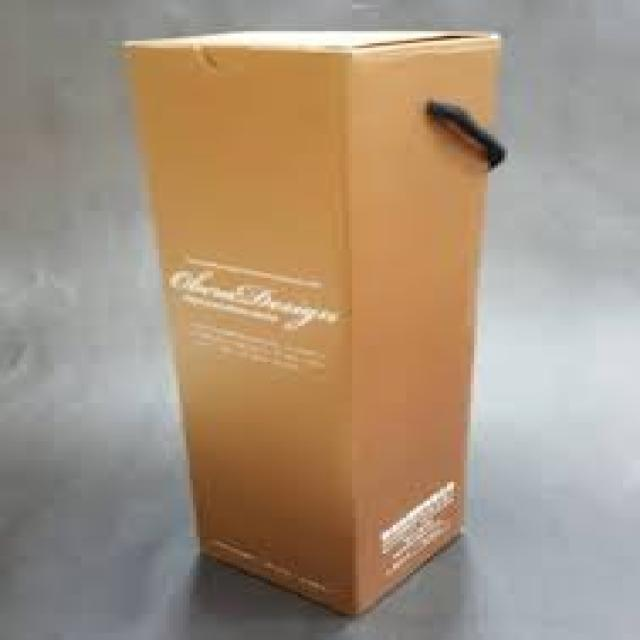Cardboard: (120, 27, 512, 619)
